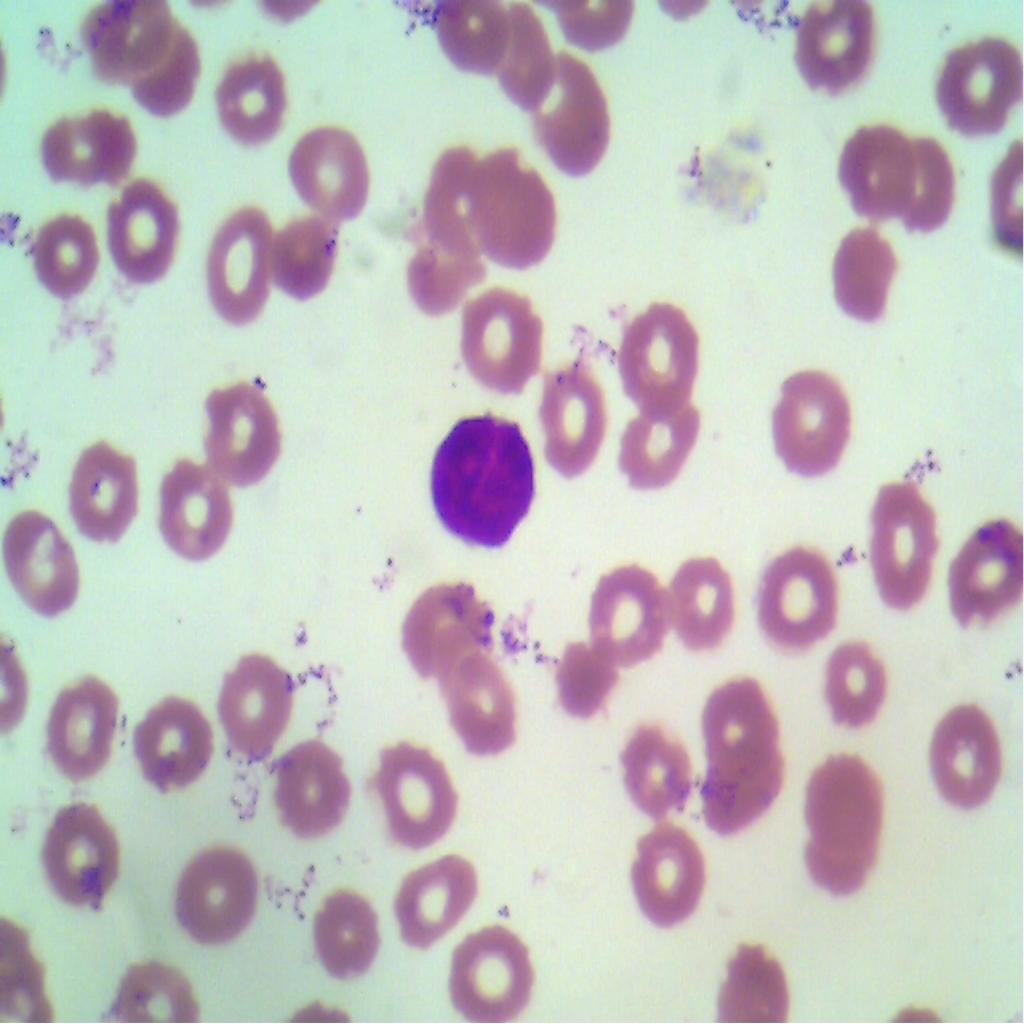Eritrosit: (162, 838, 264, 964), (818, 207, 918, 334), (463, 147, 564, 271), (864, 460, 942, 618), (195, 372, 293, 495), (370, 737, 469, 858), (104, 162, 186, 299), (766, 368, 862, 484), (429, 637, 521, 758), (268, 729, 361, 848), (531, 52, 615, 182), (533, 357, 613, 492), (456, 285, 551, 398), (758, 538, 848, 657), (36, 92, 138, 197), (206, 641, 294, 762), (933, 26, 1023, 144), (0, 504, 84, 630), (588, 555, 676, 672), (811, 748, 881, 895), (14, 202, 100, 321), (33, 802, 126, 912), (439, 924, 542, 1023), (926, 698, 1014, 812), (128, 678, 213, 795), (619, 287, 702, 405), (44, 663, 124, 784), (278, 124, 376, 222), (943, 511, 1023, 630), (149, 458, 239, 561), (784, 0, 878, 98), (624, 812, 702, 930), (58, 429, 138, 544), (394, 850, 478, 959), (400, 574, 490, 675), (422, 147, 506, 254), (618, 398, 704, 500), (700, 748, 790, 845), (203, 210, 274, 331), (884, 145, 970, 239), (129, 17, 204, 124), (409, 210, 484, 317), (212, 51, 298, 144), (306, 884, 382, 989), (714, 928, 796, 1023), (268, 205, 346, 304), (669, 552, 738, 662), (818, 638, 893, 737), (618, 719, 696, 814), (423, 0, 518, 78), (489, 8, 561, 108), (78, 0, 174, 74), (553, 625, 619, 728), (844, 122, 910, 220), (704, 678, 778, 760)
Limfoblast: (424, 408, 538, 554)
